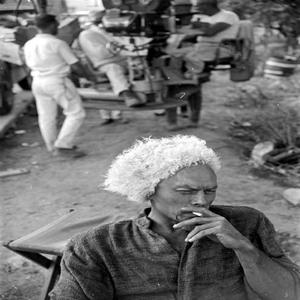cigarette: (190, 209, 206, 221)
